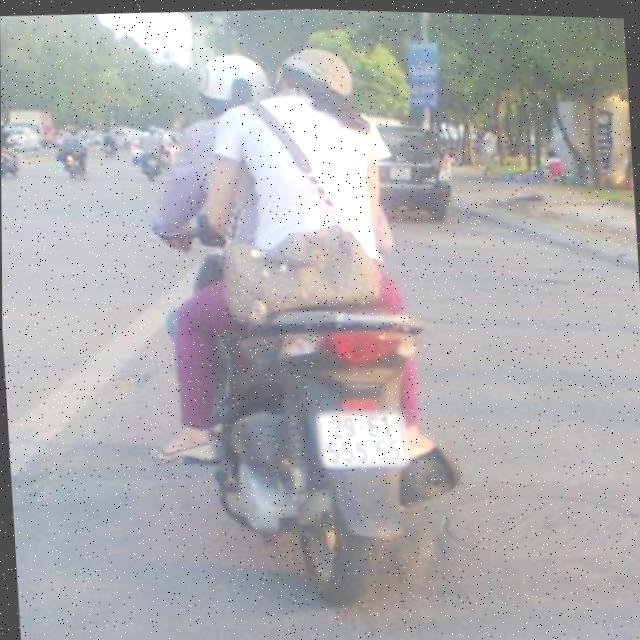motorcycle: (198, 258, 460, 614)
plate: (310, 402, 415, 479)
